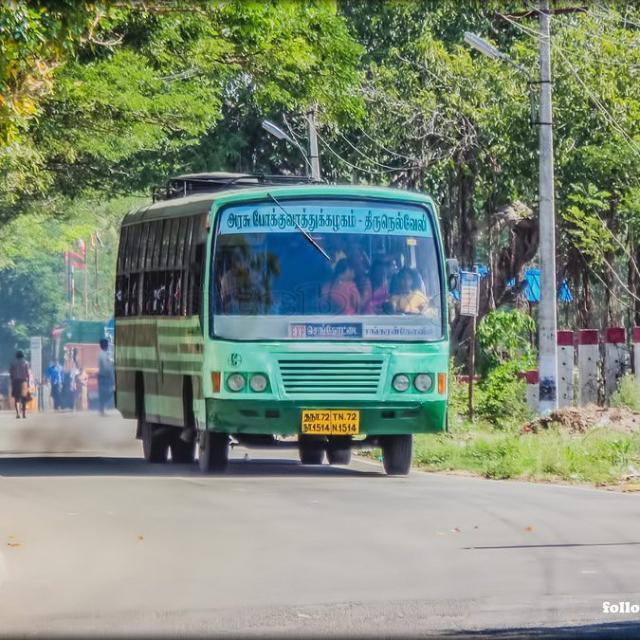Bus: (112, 173, 457, 479)
